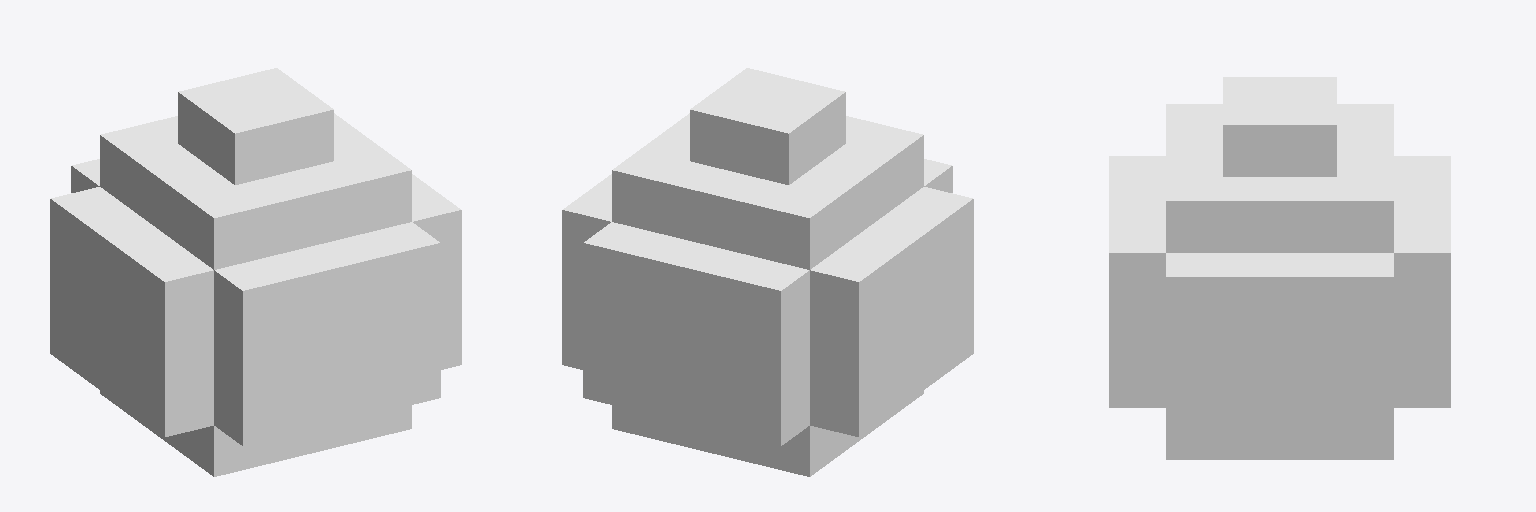
The model's file is SmallHedge.obj.
3 renders of one model, left to right at view 1: azimuth 30°, elevation 25°; view 2: azimuth 150°, elevation 25°; view 3: azimuth 270°, elevation 25°, orthographic.
Size of the model in its own units: 6 by 6 by 6.